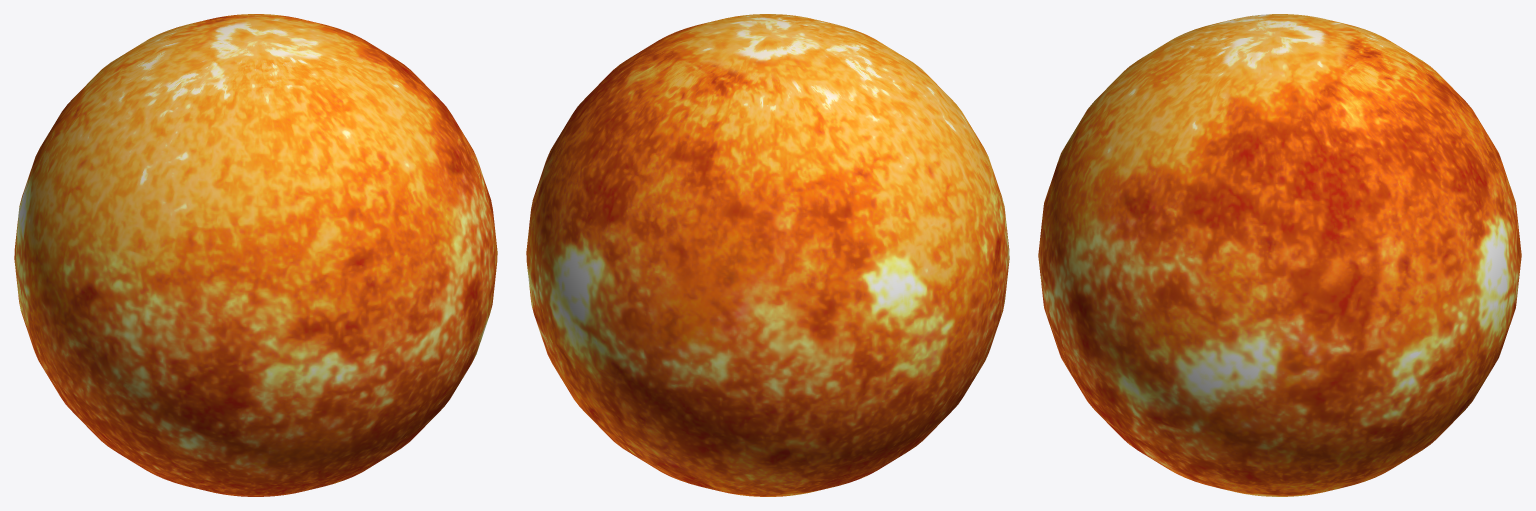
File: sun.glb
The picture shows the model from 3 angles, left to right: view 1: azimuth 30°, elevation 25°; view 2: azimuth 150°, elevation 25°; view 3: azimuth 270°, elevation 25°; orthographic projection.
Visible parts, largest first — view 1: Sphere; view 2: Sphere; view 3: Sphere.
Part boxes in pixels (bbox=[...]): Sphere: bbox=[14, 14, 497, 496]; Sphere: bbox=[526, 14, 1009, 496]; Sphere: bbox=[1038, 14, 1521, 496].
Bounding box in the file's own units: 2 × 2 × 2.
Materials: 1 (1 with a texture image).
